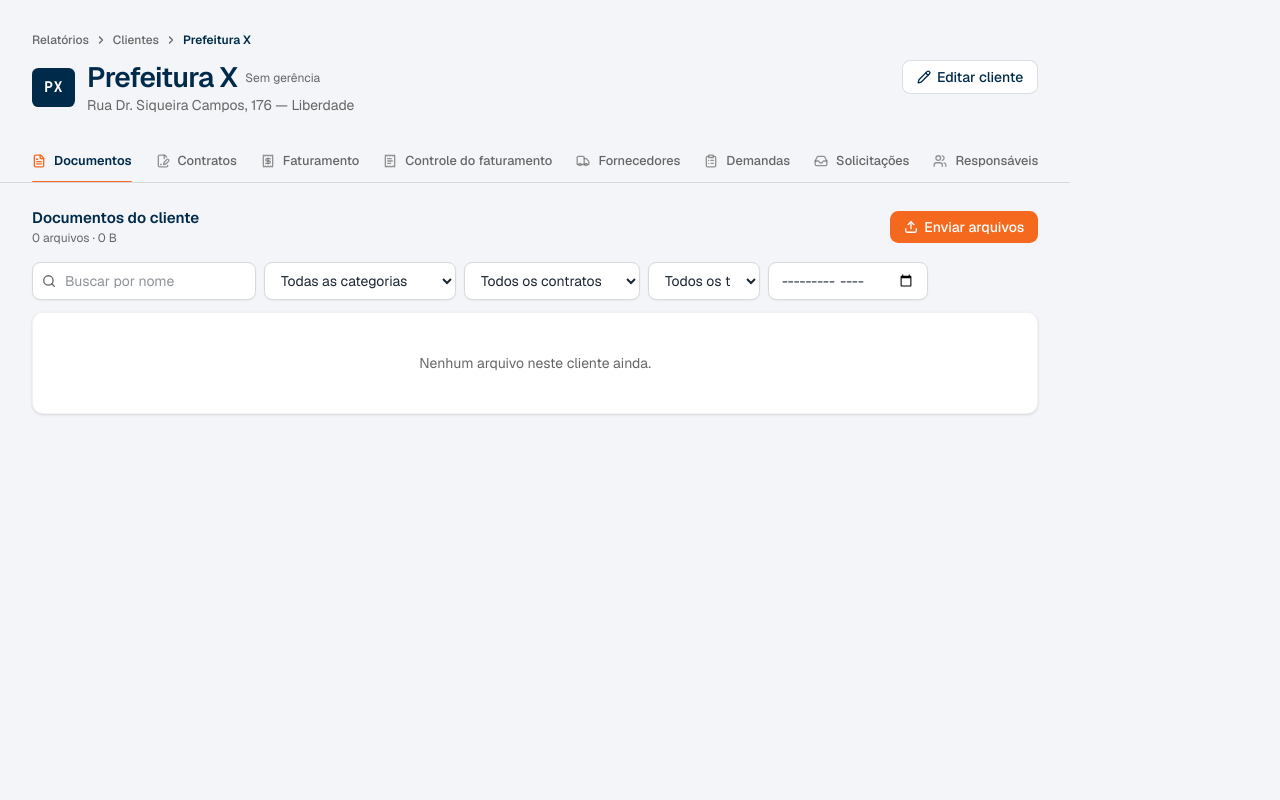
Test: ClienteDetalhePage › mostra o erro da API ao salvar o cliente
Click the button "Editar cliente" at x=970, y=77, box x1=902 y1=60 x2=1038 y2=94
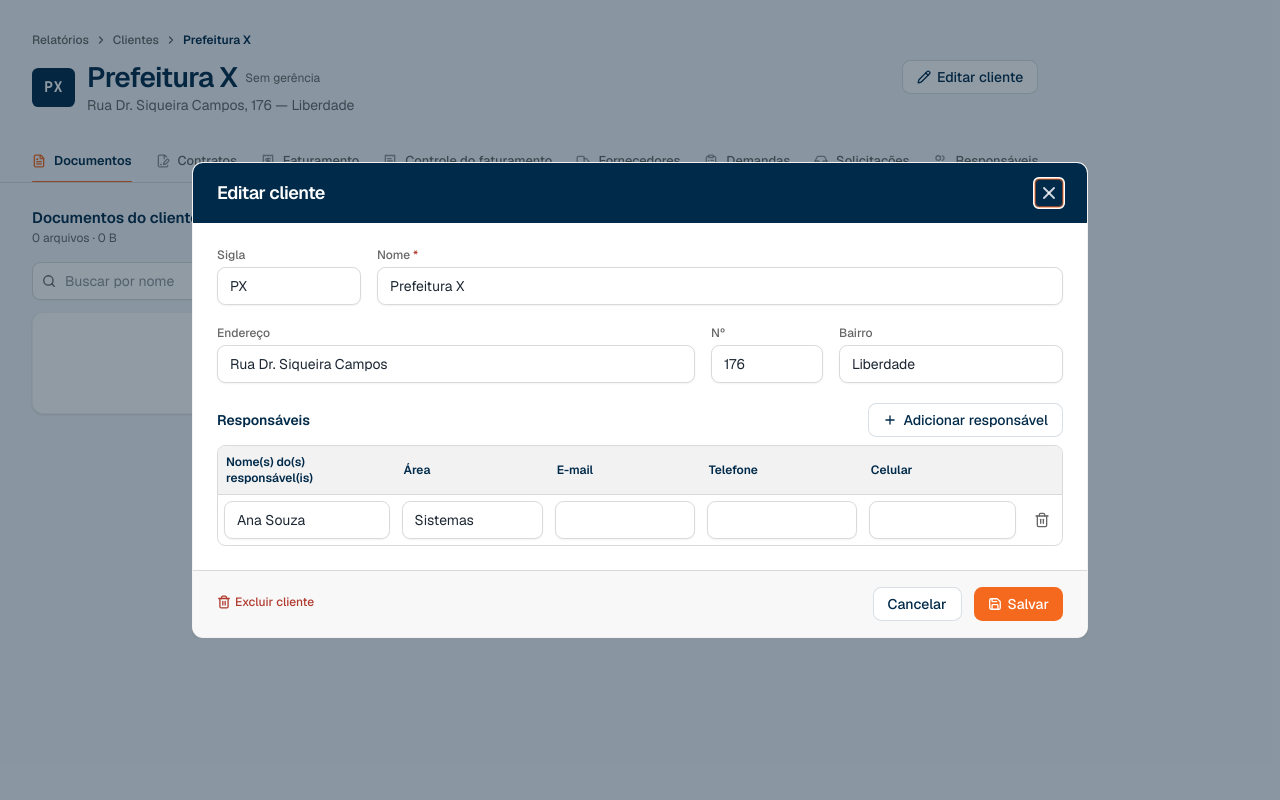
Check: the field showing "Ana Souza" is shown, box x1=224 y1=501 x2=390 y2=539
Click the button "Salvar" at x=1018, y=604, box x1=974 y1=587 x2=1063 y2=621
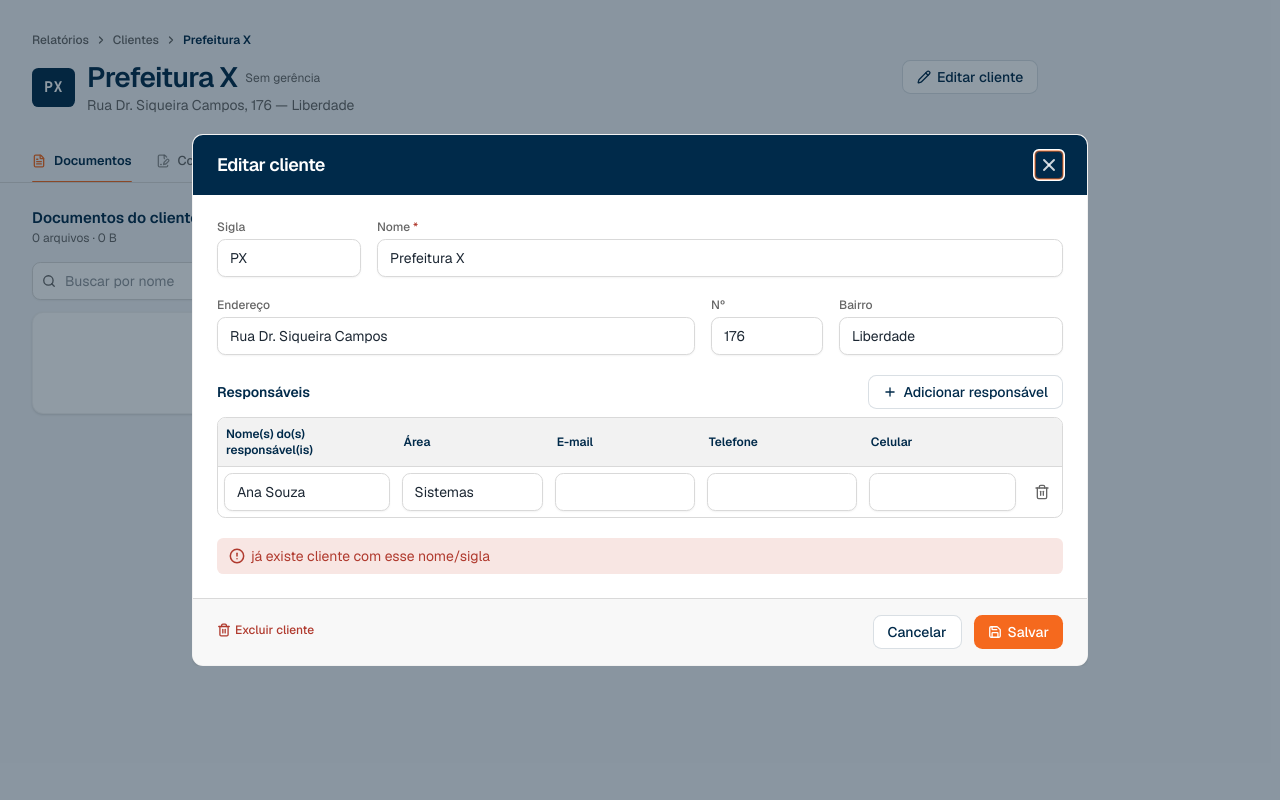
Check: the text "já existe cliente com esse nome/sigla" is shown, box x1=217 y1=538 x2=1063 y2=574
